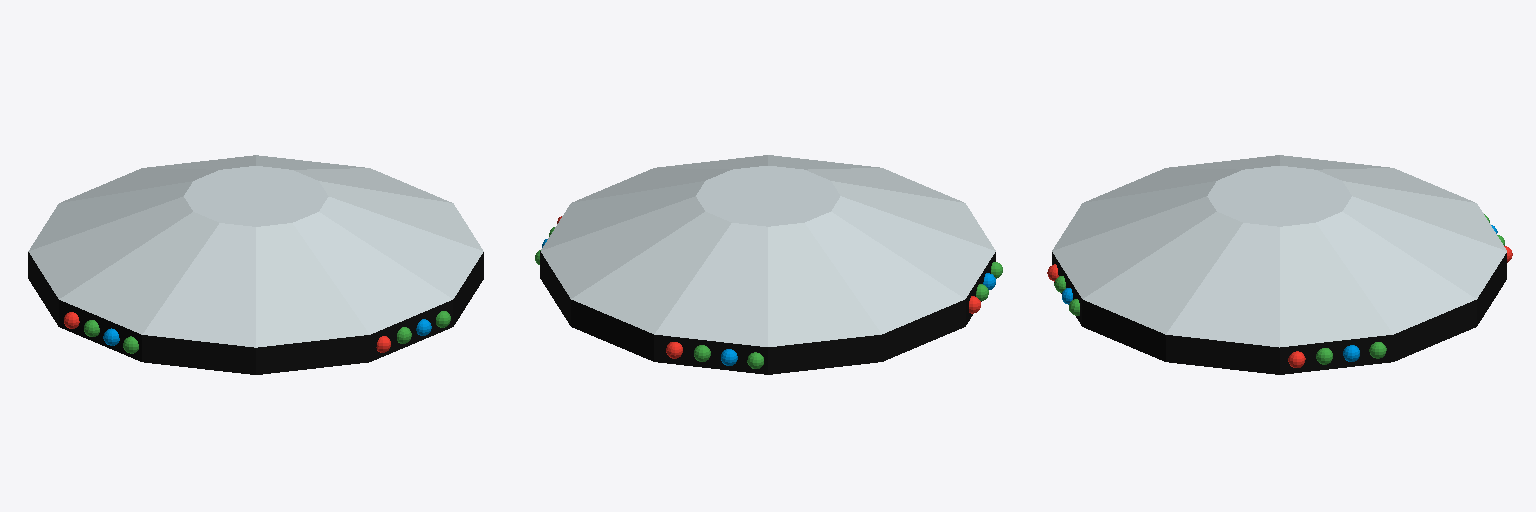
3 views of the same model, side by side, from view 1: azimuth 30°, elevation 25°; view 2: azimuth 150°, elevation 25°; view 3: azimuth 270°, elevation 25° (orthographic).
Visible parts, largest first — view 1: group[number redacted]; view 2: group[number redacted]; view 3: group[number redacted].
Part boxes in pixels (x1,y1,x2,y2): group[number redacted]: (28, 155, 483, 374); group[number redacted]: (540, 155, 995, 374); group[number redacted]: (1052, 155, 1506, 374).
Size of the model in its own units: 0.528 by 0.1495 by 0.5273.